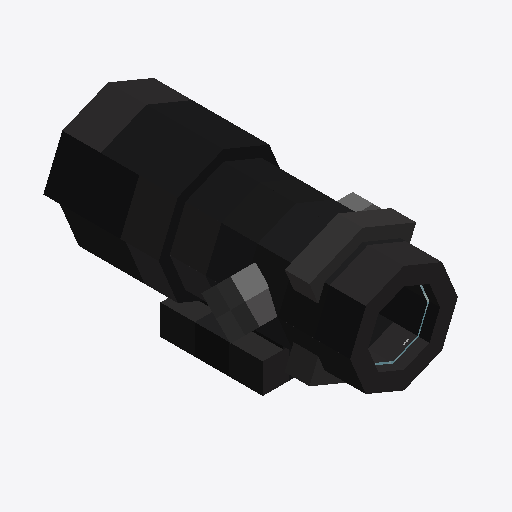
A Minecraft block model of 46 cuboids, rendered isometrically (azimuth 45°, elevation 35.3°) with the resource pack's own textures.
Parts seen in each view (by area): holographic_sight (×17).
Part boxes in pixels (bbox=[...]): holographic_sight (×17): bbox=[43, 78, 457, 395].
Bounding box in the file's own units: 1.35 × 1.47 × 2.8.